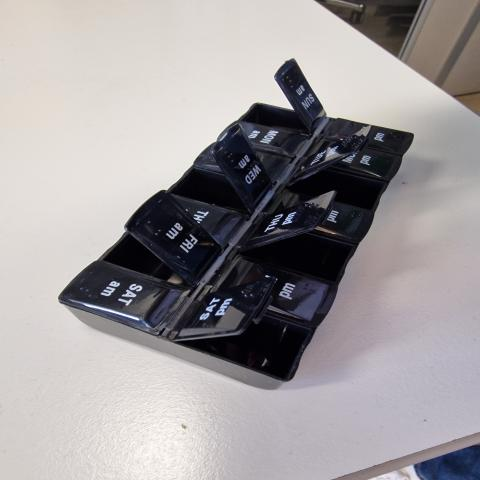Open: (172, 277, 314, 381), (243, 231, 354, 285), (100, 226, 192, 288), (166, 148, 248, 214), (293, 170, 389, 210), (236, 102, 306, 133)
